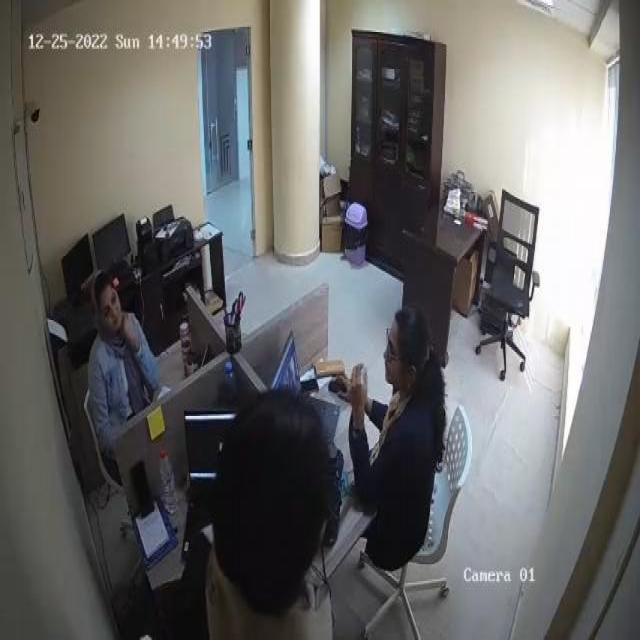bare_hand: (113, 308, 148, 360), (345, 360, 369, 431)
